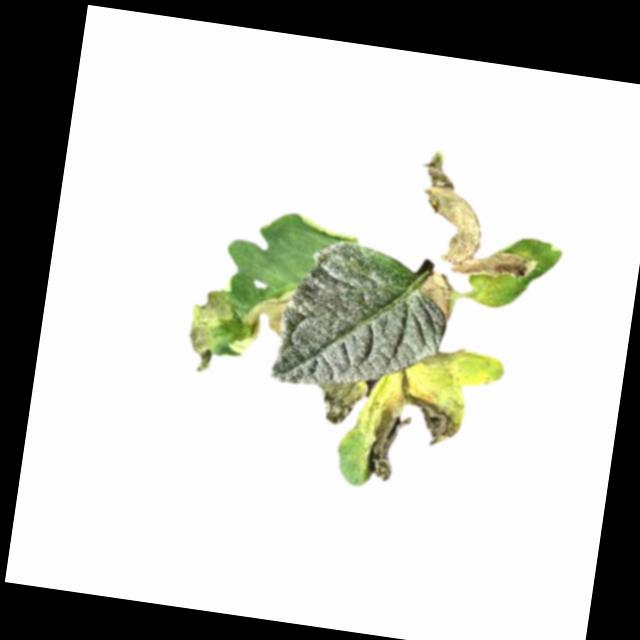Late_blight: (409, 145, 552, 287), (355, 379, 473, 496), (182, 272, 246, 379), (234, 279, 294, 360), (311, 375, 368, 431), (419, 342, 484, 382), (414, 269, 456, 321)
